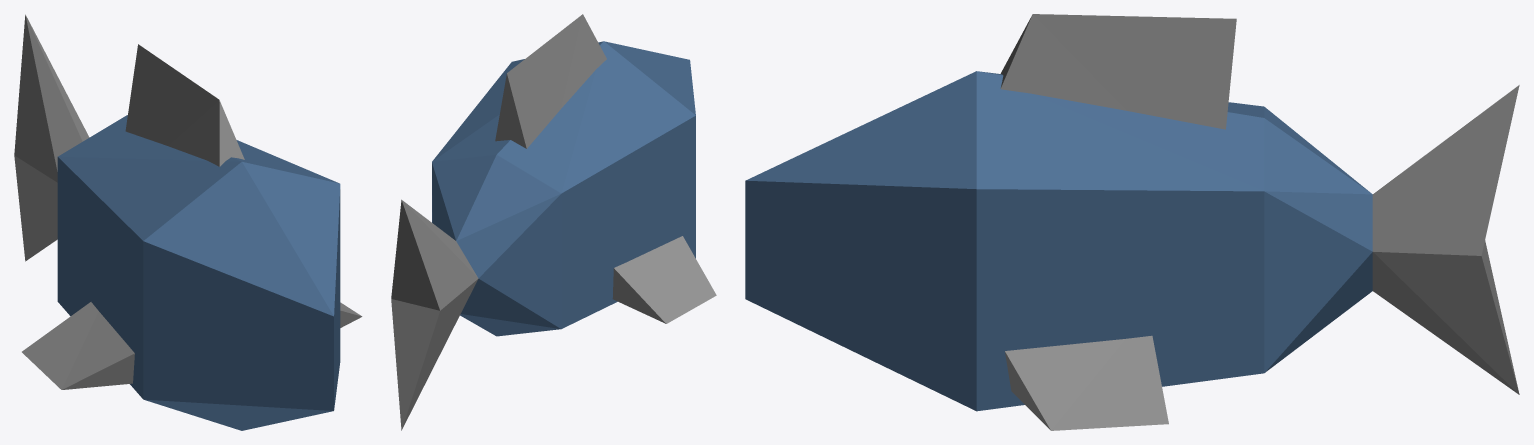
File: Fish.fbx
3 renders of one model, left to right at view 1: azimuth 30°, elevation 25°; view 2: azimuth 150°, elevation 25°; view 3: azimuth 270°, elevation 25°, orthographic. The views are drawn at different scales.
Visible parts, largest first — view 1: Fish; view 2: Fish; view 3: Fish.
Boxes of the visible parts, box(x1,y1,x2,y2) form: Fish: box(14, 14, 362, 430); Fish: box(391, 14, 716, 430); Fish: box(745, 14, 1519, 430).
Size of the model in its own units: 16.39 by 16.37 by 29.1.
